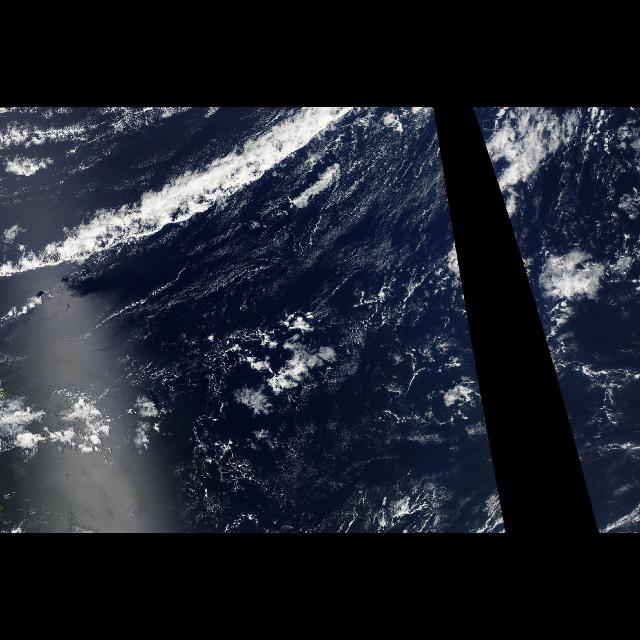Fish: (1, 107, 382, 271)
Sugar: (315, 130, 441, 300)
